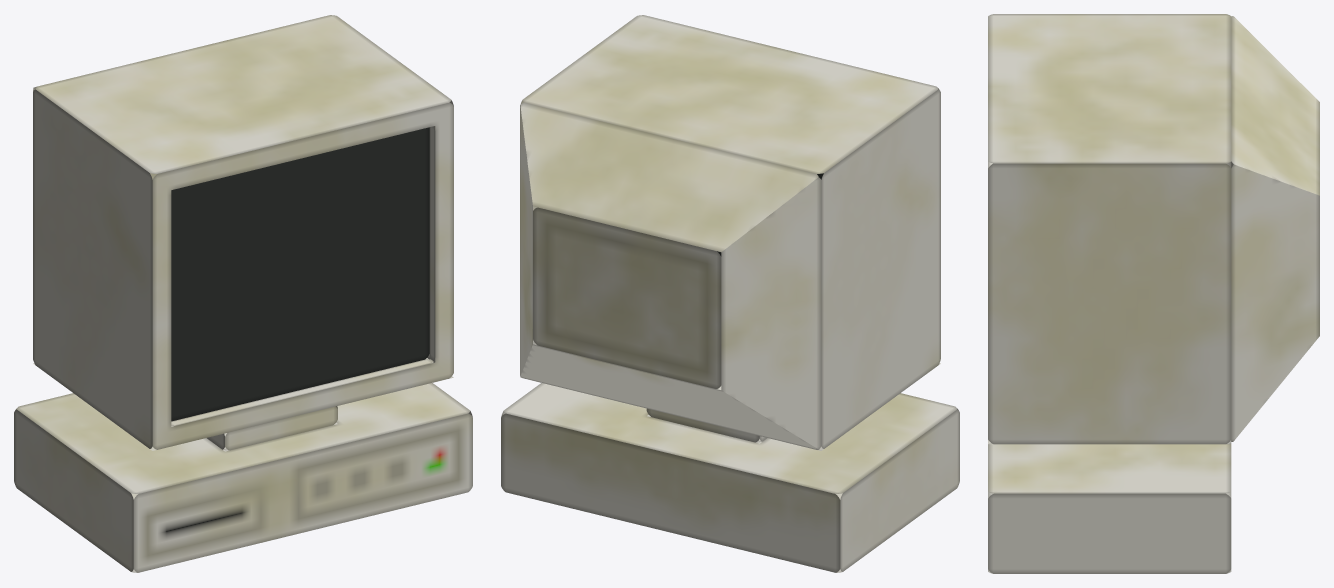
File: ComputerScreen.obj
3 views of the same model, side by side, from view 1: azimuth 30°, elevation 25°; view 2: azimuth 150°, elevation 25°; view 3: azimuth 270°, elevation 25° (orthographic).
Visible parts, largest first — view 1: cuboid; view 2: cuboid; view 3: cuboid.
Part boxes in pixels (x1=…): cuboid: x1=14, y1=15, x2=472, y2=572; cuboid: x1=501, y1=15, x2=959, y2=572; cuboid: x1=988, y1=14, x2=1319, y2=573.
Bounding box in the file's own units: 1.12 × 1.25 × 0.9375.
